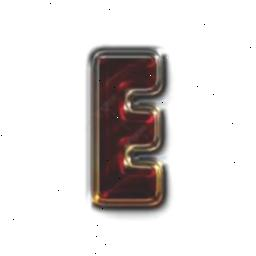e: (82, 44, 188, 220)
